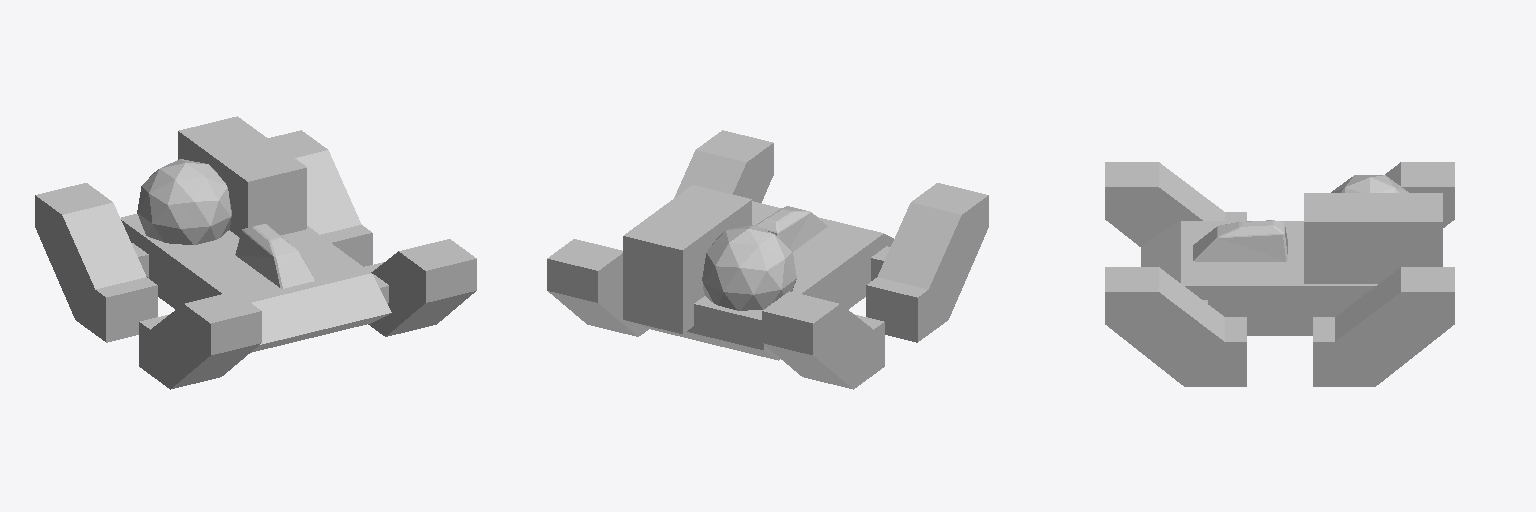
Rendered from transport.obj.
3 views of the same model, side by side, from view 1: azimuth 30°, elevation 25°; view 2: azimuth 150°, elevation 25°; view 3: azimuth 270°, elevation 25° (orthographic).
Visible parts, largest first — view 1: Cube_Cube.001; view 2: Cube_Cube.001; view 3: Cube_Cube.001.
Part boxes in pixels (x1,y1,x2,y2): Cube_Cube.001: (35,116,476,389); Cube_Cube.001: (547,130,988,389); Cube_Cube.001: (1105,162,1454,386).
Size of the model in its own units: 2.71 by 1.29 by 3.09.